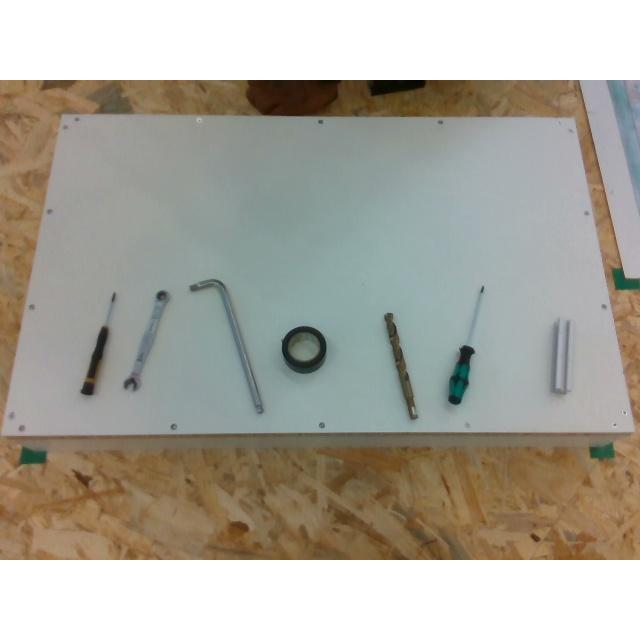AllenKey: (189, 278, 263, 414)
Drill: (384, 312, 418, 420)
F20_20_G: (550, 318, 574, 394)
Screwdriver: (448, 284, 484, 404)
Wrench: (122, 290, 170, 390)
